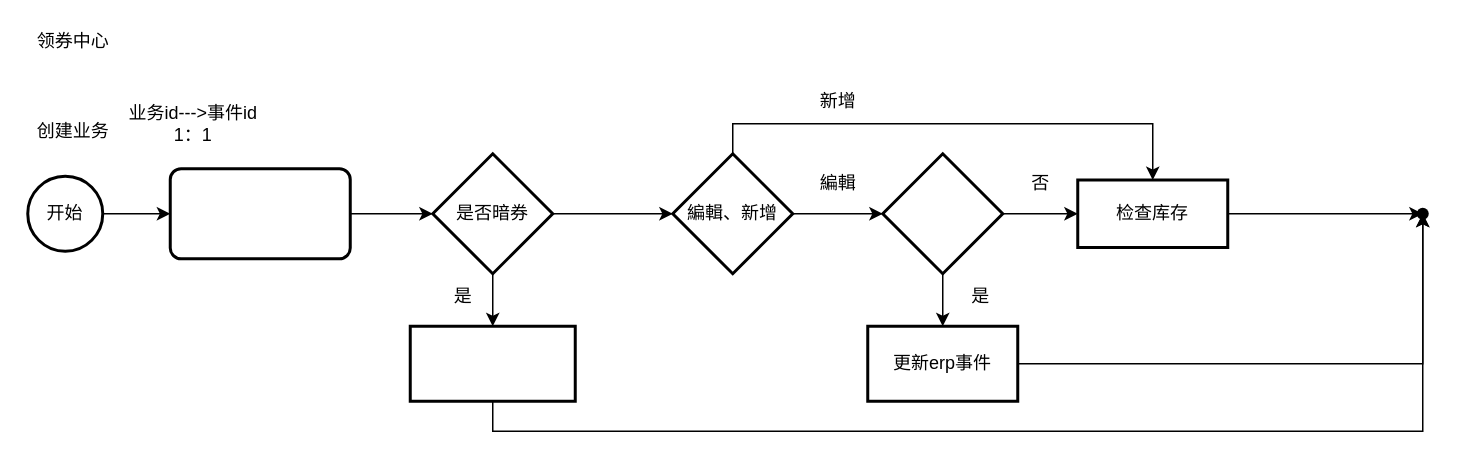
Some shapes in this 1479 by 470 pixel diagram are drawn without their labels. Each missing label, with the centre of its shape:
修改事件類型: the point at 492,363
是否已發佈: the point at 942,213
获取券信息: the point at 259,213
